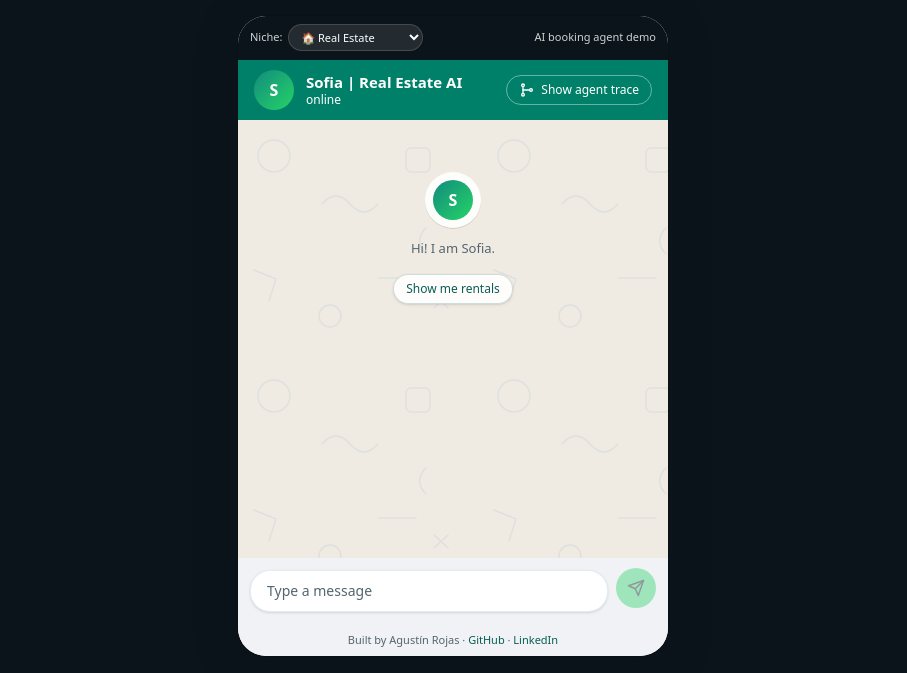
chat flow › shows a failed run with its Error step
Expected: the heading "Sofia | Real Estate AI" is shown, [306,72,462,92]
Expected: the text "Hi! I am Sofia." is shown, [411,240,495,258]
Click the button "Show agent trace".
click(579, 90)  # box [506,75,652,105]
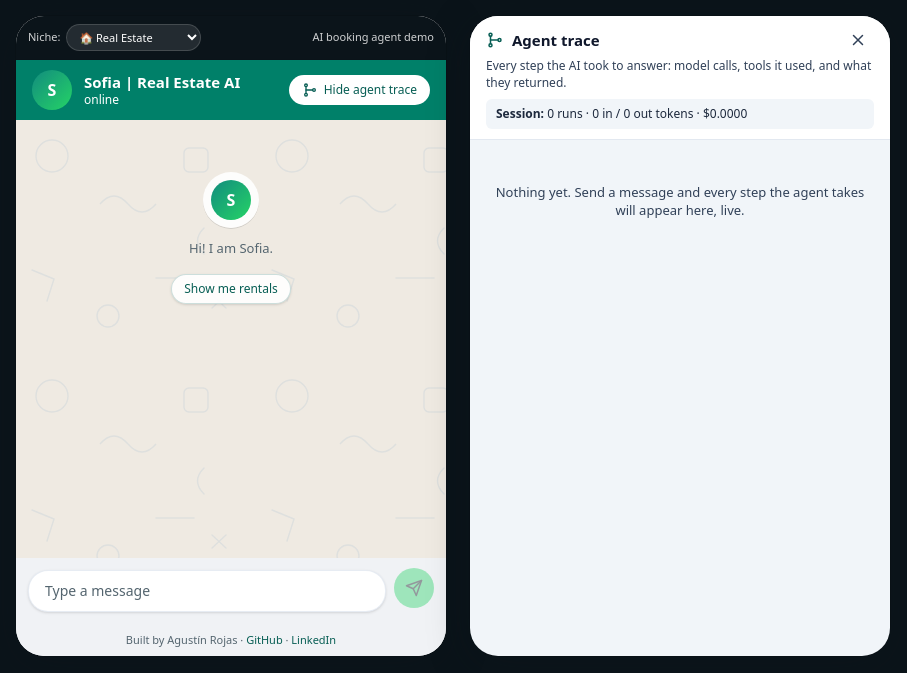
Type "Hello" into the text box labelled "message".
click(207, 590); type("Hello")  # box [45,576,369,604]
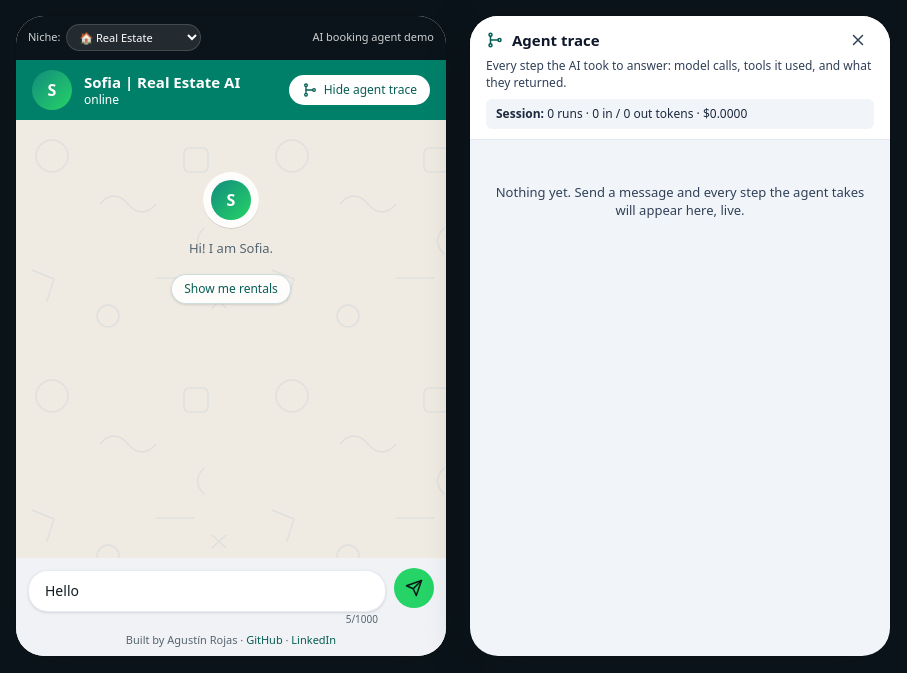
Press Enter in the text box named "message", box [45,576,369,604]
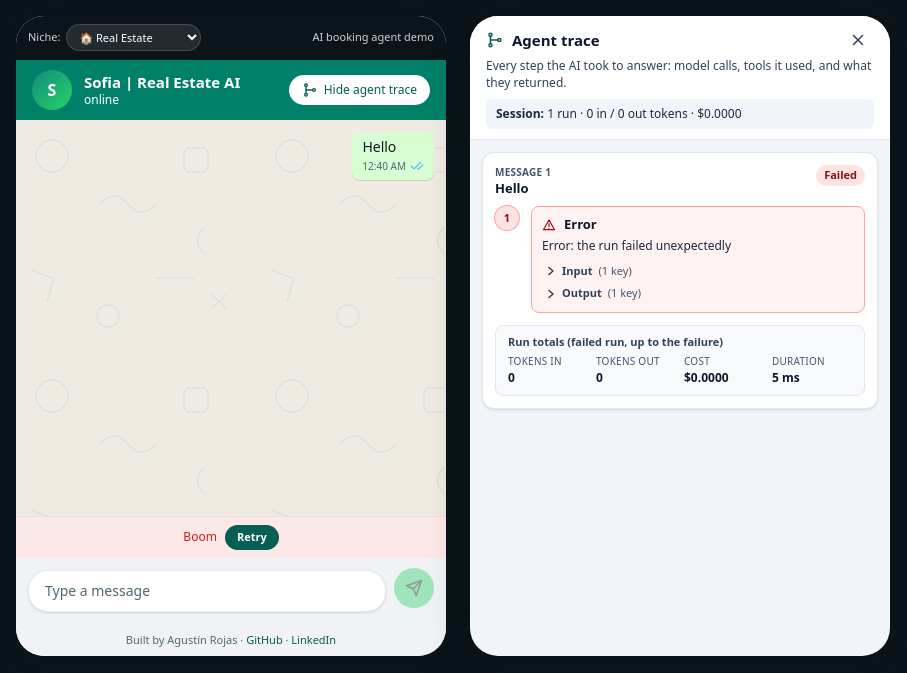
Result: the text "Error: the run failed unexpectedly" is shown at [542,237,731,254]
Result: the text "Failed" is shown at [816,165,865,186]
Result: the element with test id "run-totals" shows "failed run" at [508,334,723,349]
